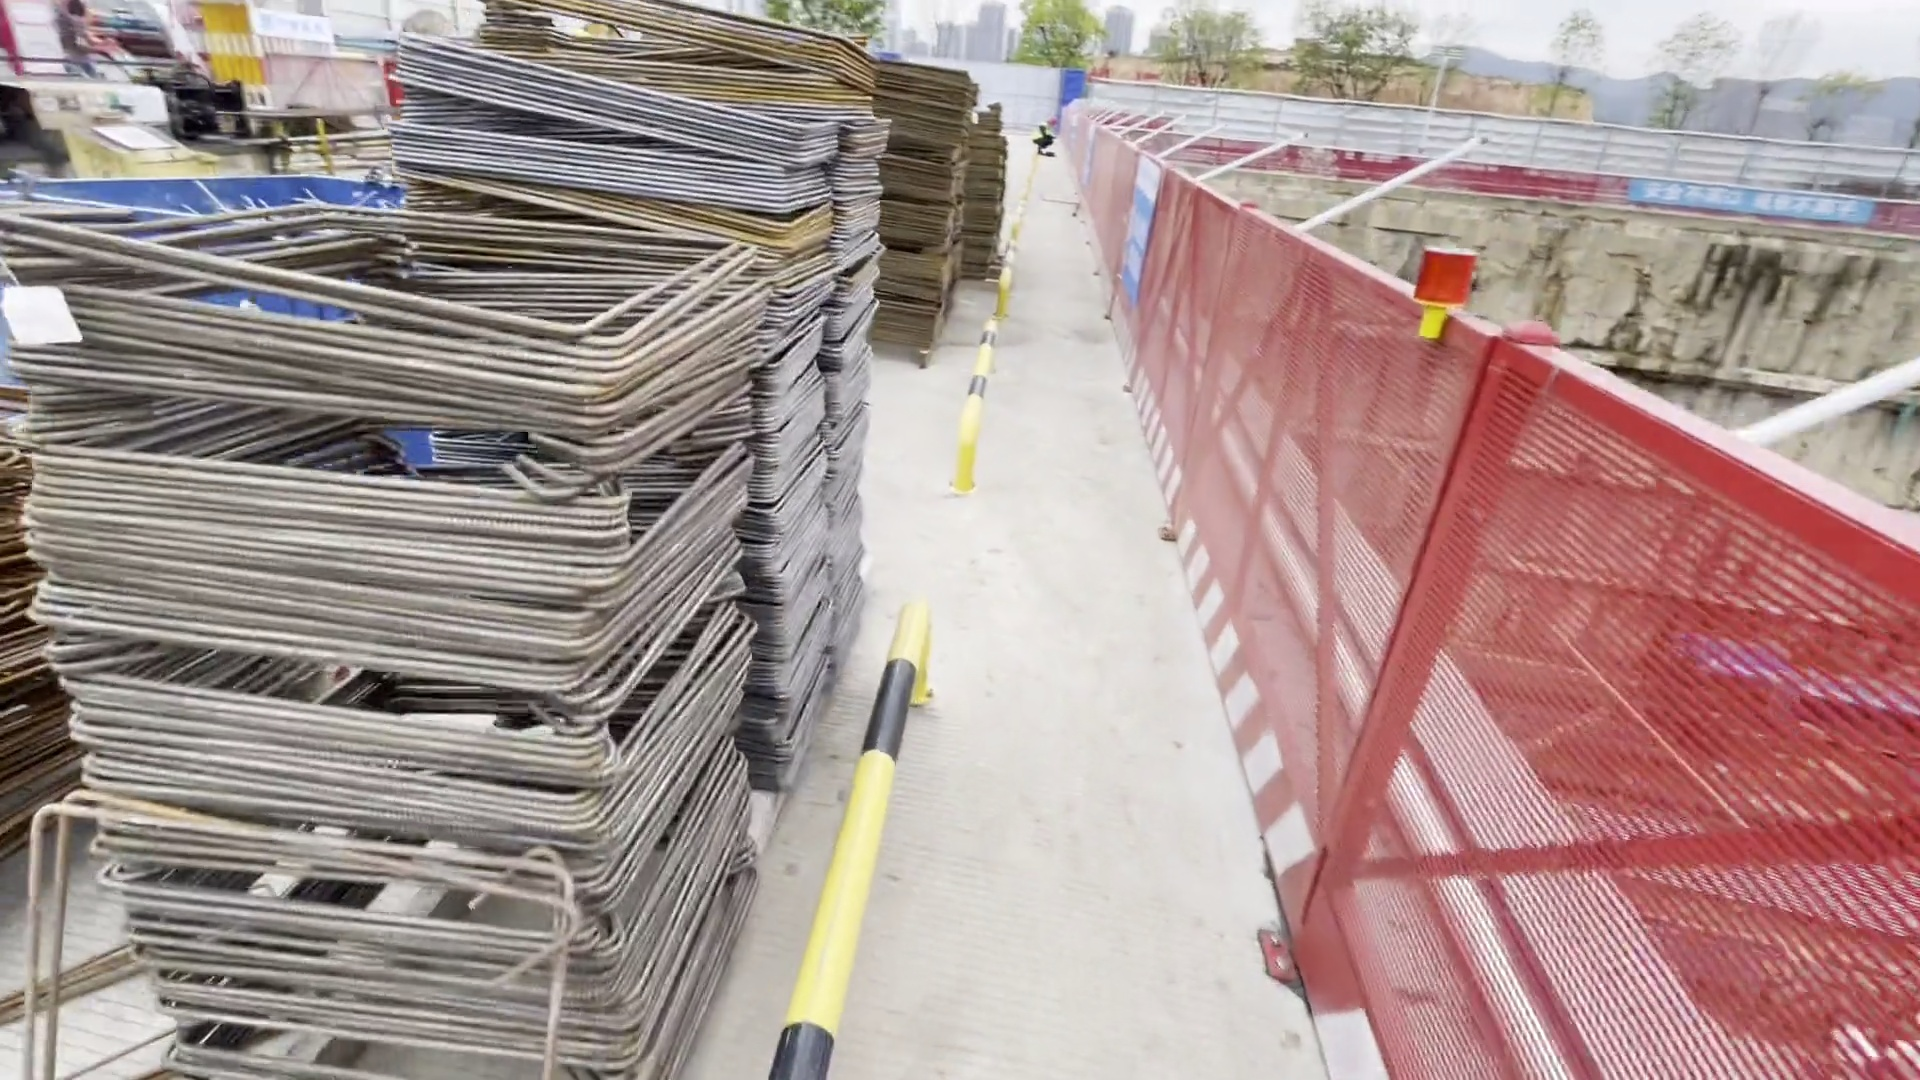fence: (1067, 114, 1912, 1080)
person: (1031, 114, 1059, 156)
